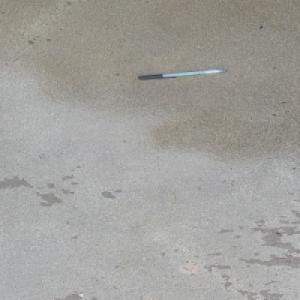Pen: (137, 67, 227, 81)
